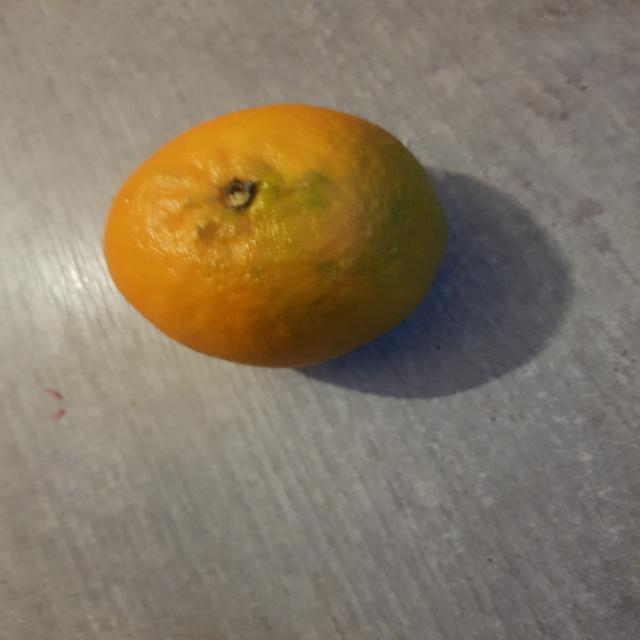Orange: (101, 104, 448, 371)
